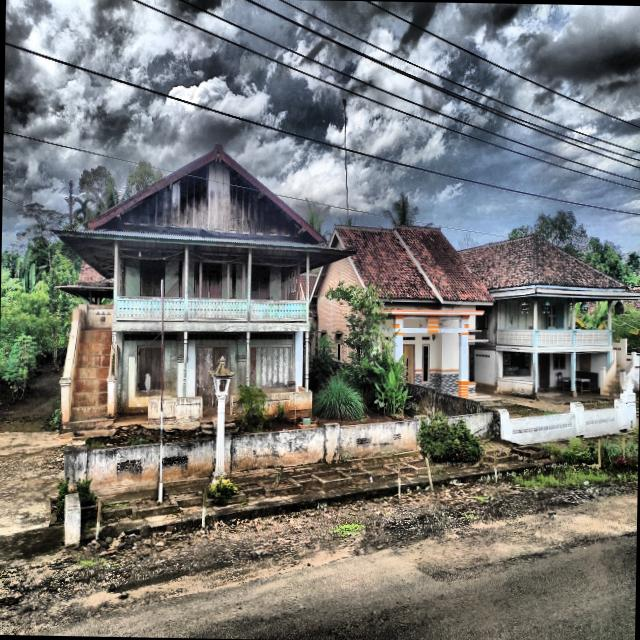column: (182, 244, 188, 397), (246, 248, 251, 387), (305, 251, 309, 391), (113, 240, 117, 322), (296, 264, 300, 300), (287, 273, 290, 299), (293, 267, 296, 292), (290, 268, 293, 292)
ornamen: (116, 296, 306, 321)
roof: (51, 143, 356, 298)
stair: (70, 330, 111, 421)
wall: (117, 321, 303, 413), (119, 240, 282, 300)
window: (249, 345, 291, 386), (136, 345, 162, 391), (140, 259, 164, 296), (250, 265, 270, 298)
